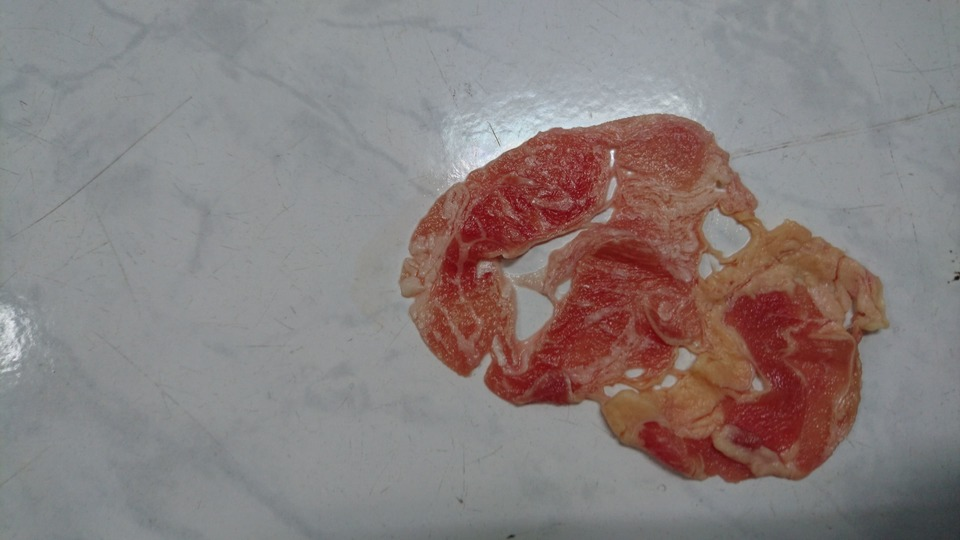restructured meat: (367, 109, 905, 492)
